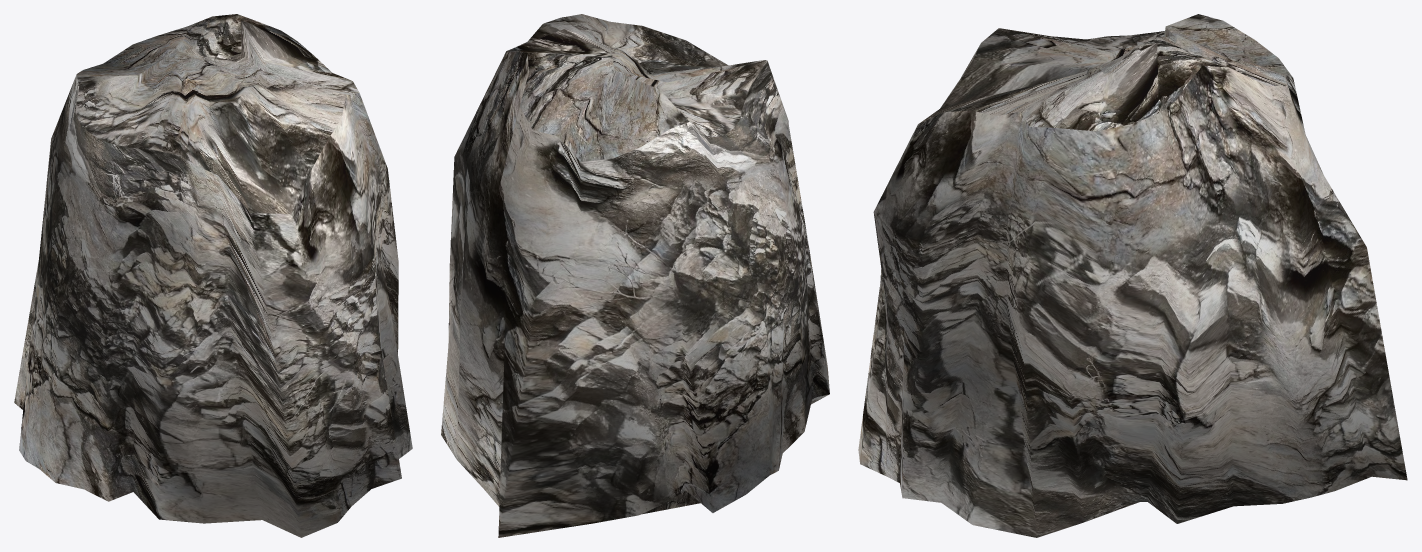
The model's file is rock_small.glb.
3 renders of one model, left to right at view 1: azimuth 30°, elevation 25°; view 2: azimuth 150°, elevation 25°; view 3: azimuth 270°, elevation 25°, orthographic. The views are drawn at different scales.
Size of the model in its own units: 2.09 by 2.61 by 2.81.
1 material, 1 textured.
